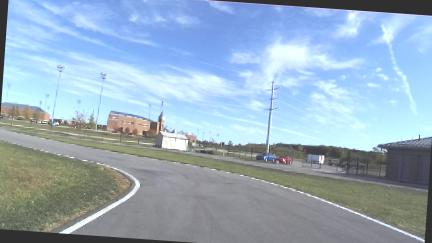Grass: (28, 134, 427, 235), (0, 141, 130, 231), (0, 119, 153, 143)
Lane: (0, 129, 421, 242)
